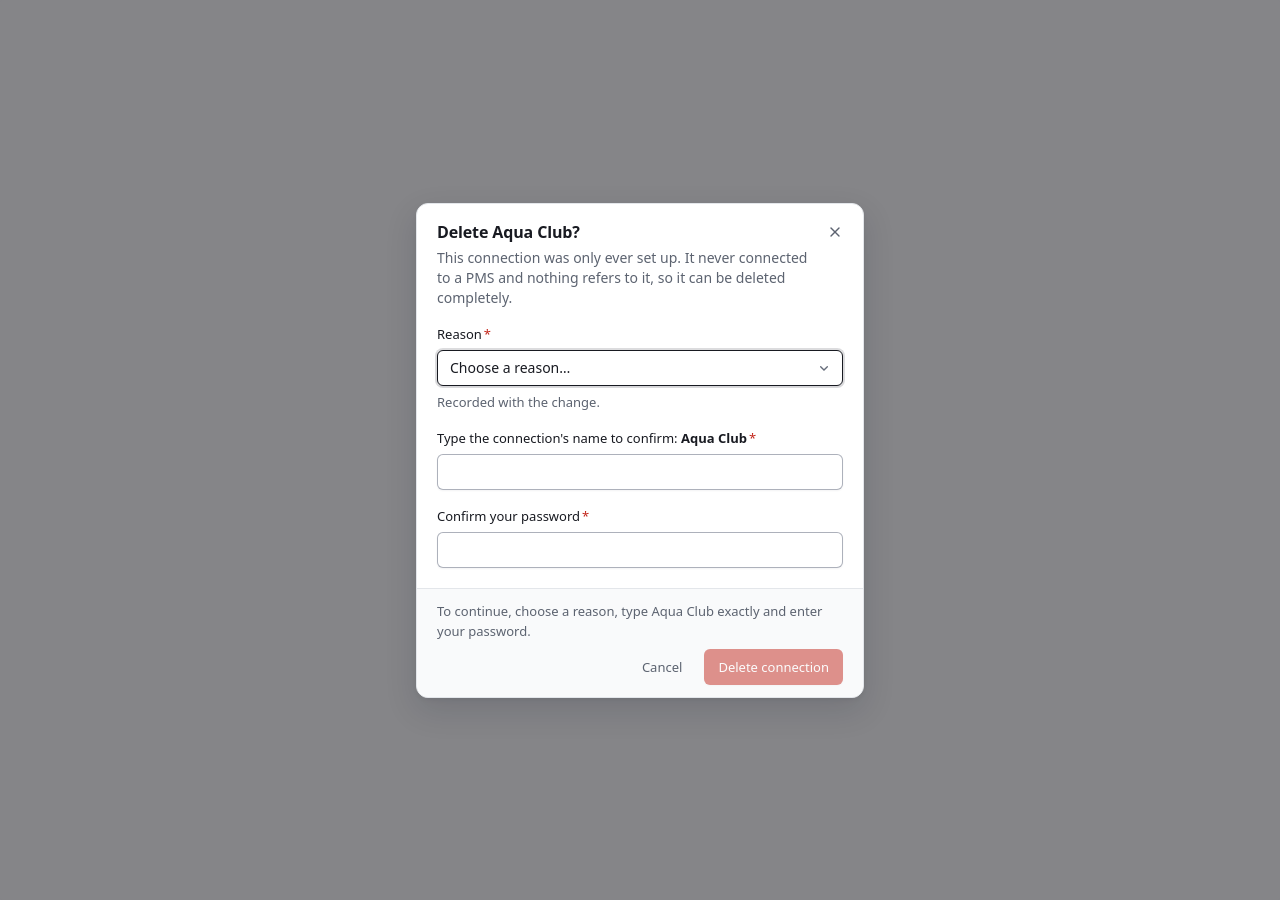
Test: removing a PMS connection › re-reads what removal means when the connection changed while the dialog was open
Expected: the heading "Delete Aqua Club?" is shown, top-left (437, 220), bottom-right (580, 242)
Select "No longer needed" in the dropdown labelled "Reason*" at {"x": 640, "y": 368}, box top-left (437, 350), bottom-right (843, 386)
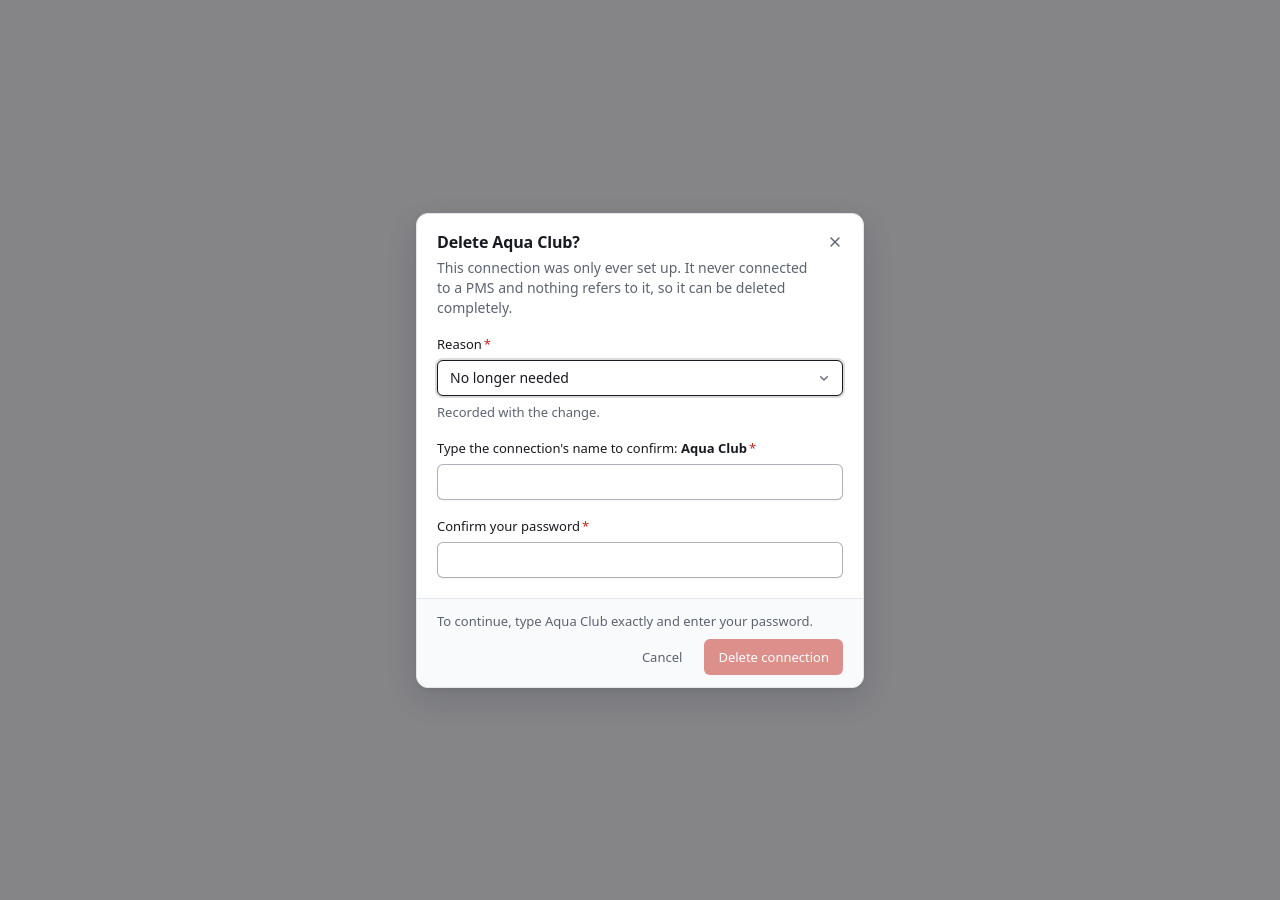
Type "Aqua Club" into the field labelled "Type the connection's name to confirm: Aqua Club*".
click(640, 482); type("Aqua Club")  # box top-left (437, 464), bottom-right (843, 500)
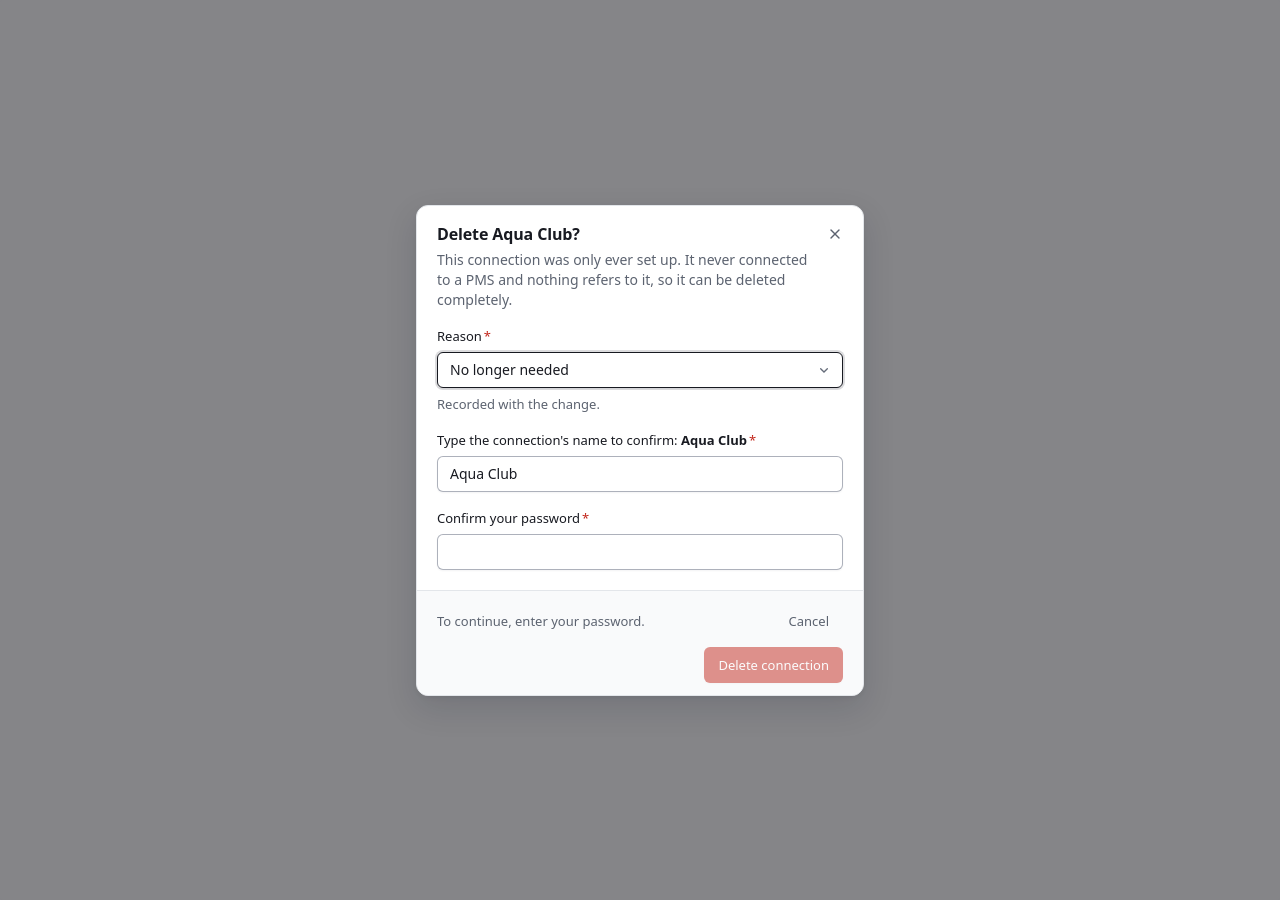
Type "pw" into the password field labelled "Confirm your password*".
click(640, 552); type("pw")  # box top-left (437, 534), bottom-right (843, 570)
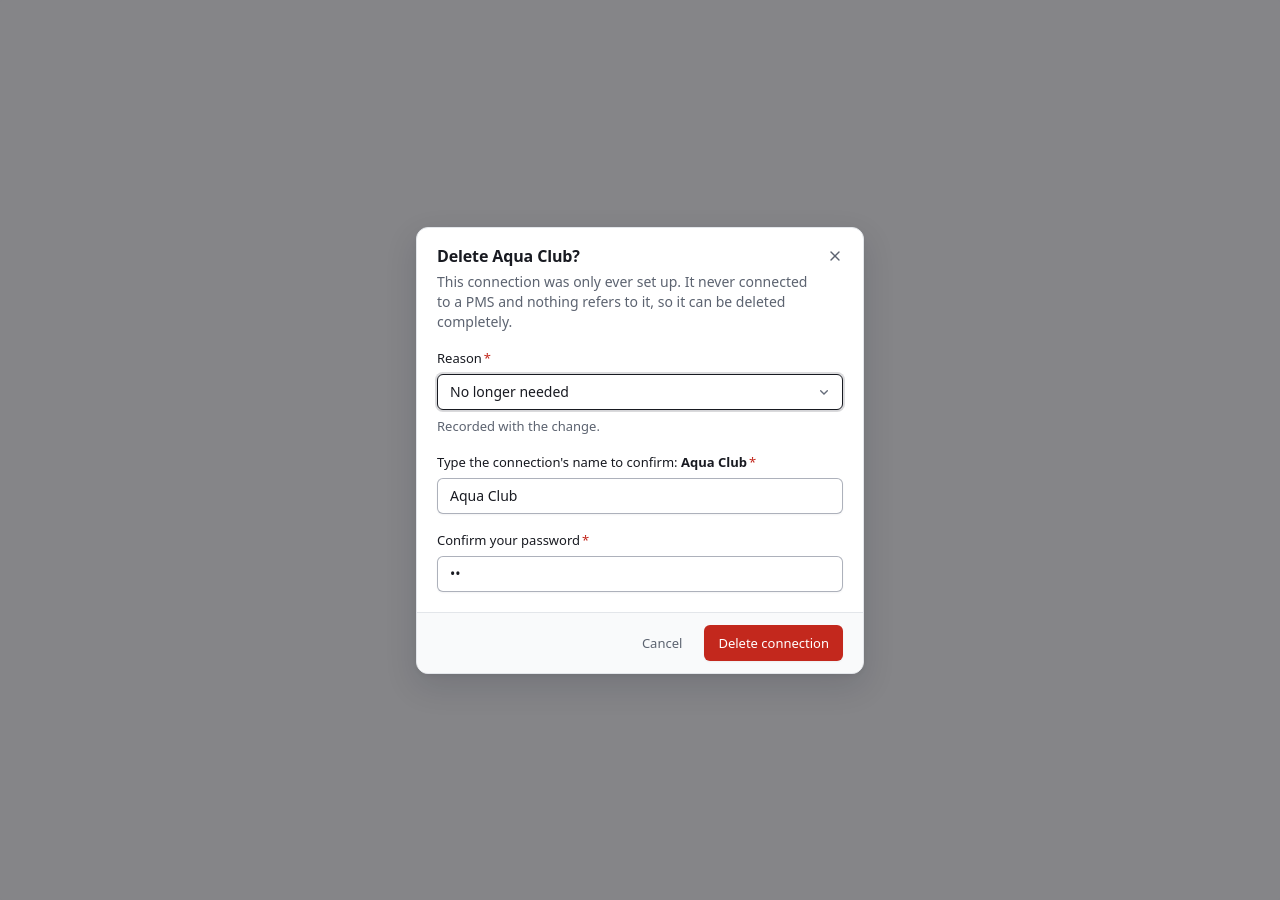
Click the button "Delete connection".
click(774, 642)  # box top-left (704, 624), bottom-right (843, 660)
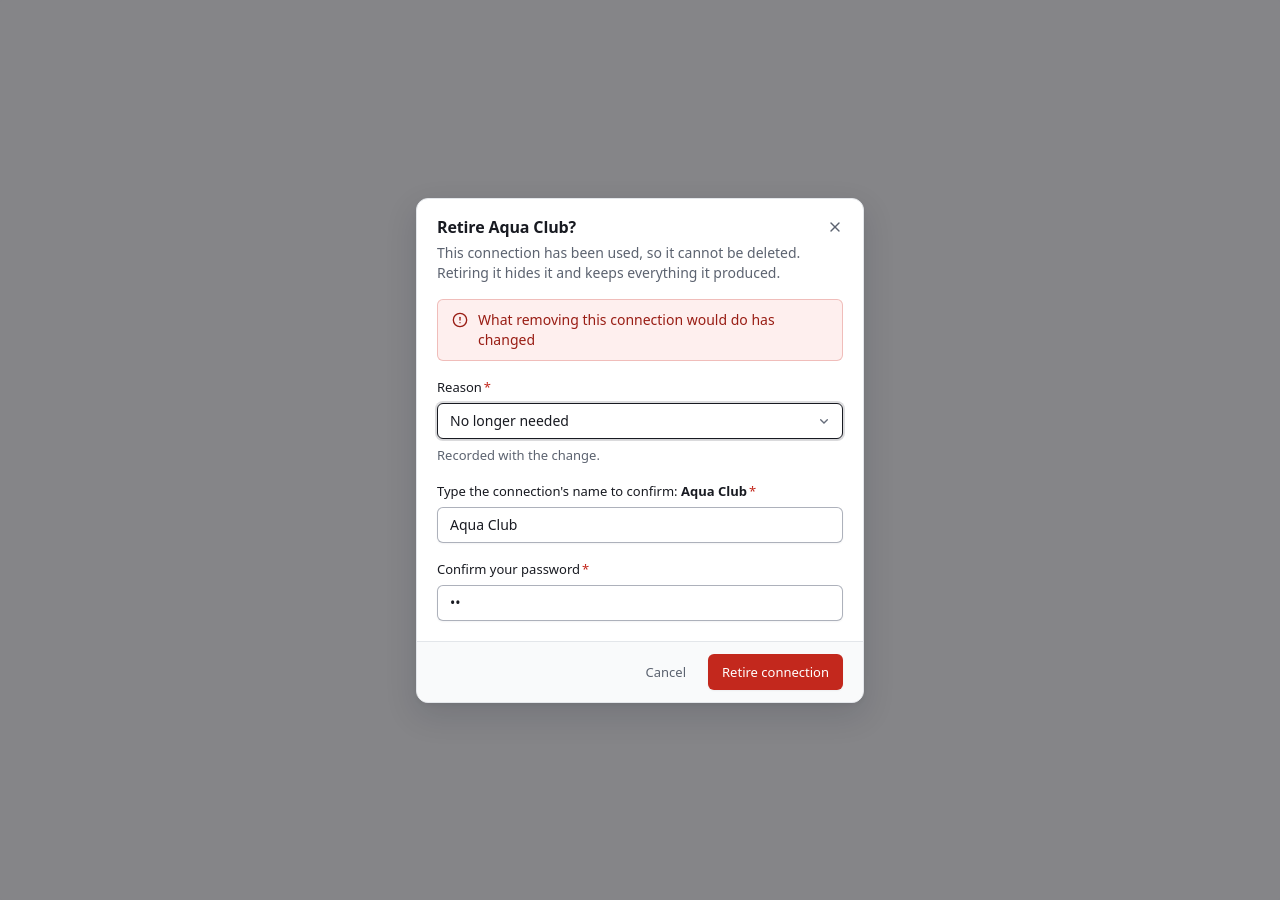
Expected: the heading "Retire Aqua Club?" is shown, top-left (437, 216), bottom-right (576, 238)
